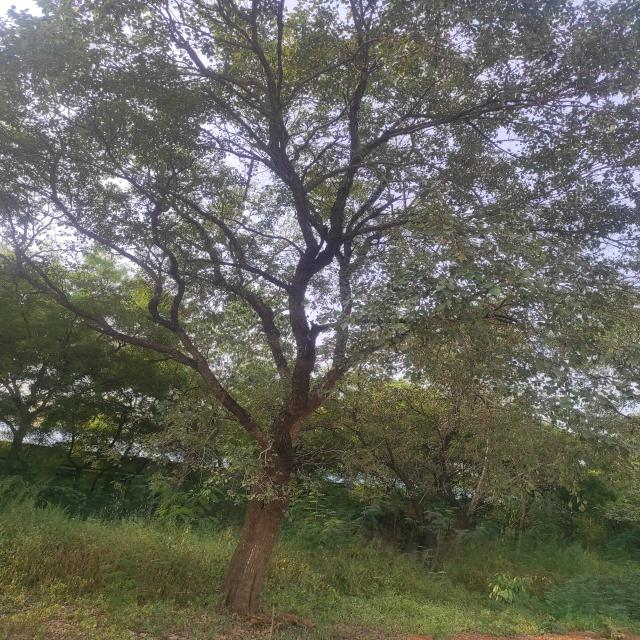Devakanchan tree: (33, 1, 590, 578)
